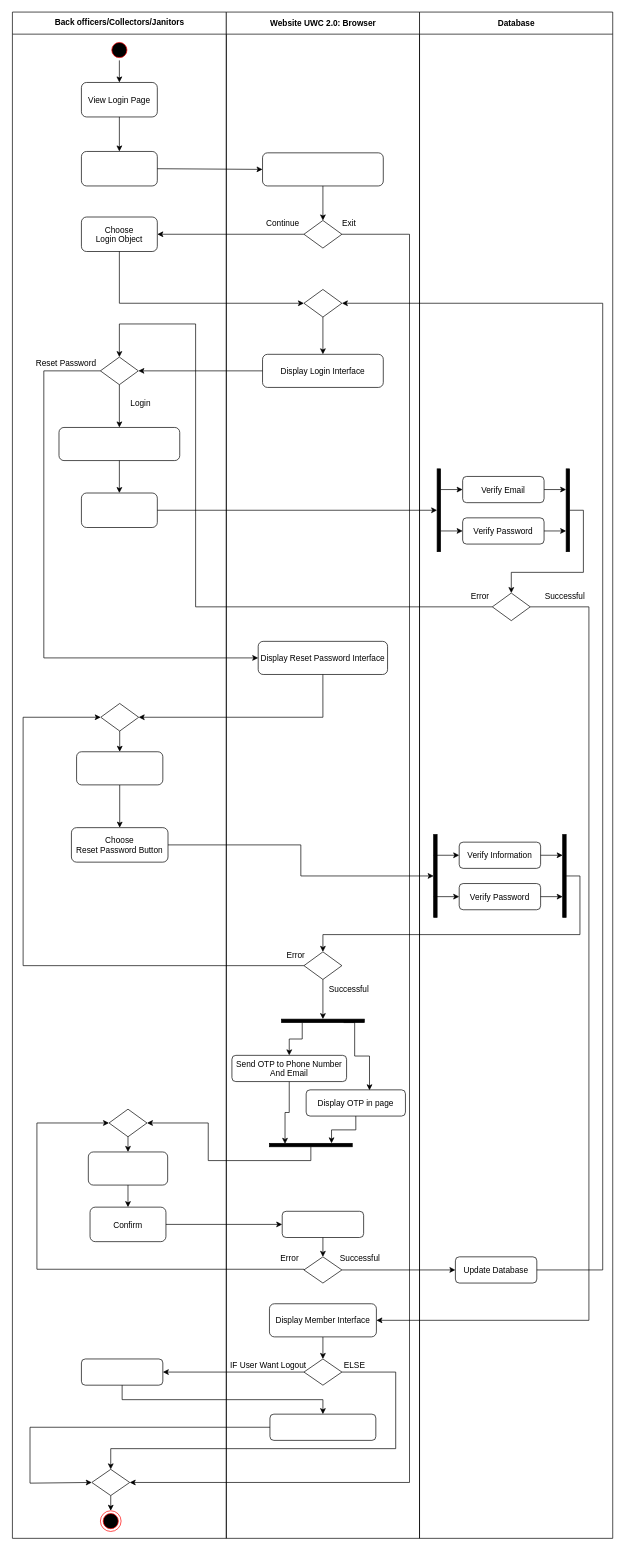
Image size: 624x1550. Some labels were removed from this diagram. Here are the shapes that lost their labels. From the top down, the centre of each, then its label:
At [119,168]: "Choose Login".
At [322,169]: "Display Login Object Interface".
At [119,444]: "Input Email And Password".
At [119,510]: "Choose Login Button".
At [119,768]: "Input Information And New Password".
At [128,1168]: "Input OTP".
At [323,1224]: "Check OTP".
At [122,1371]: "Choose Logout Button".
At [322,1426]: "Display Guest Interface".
